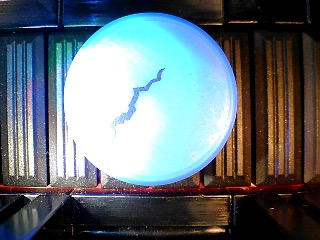CRACK: (63, 12, 238, 187)
